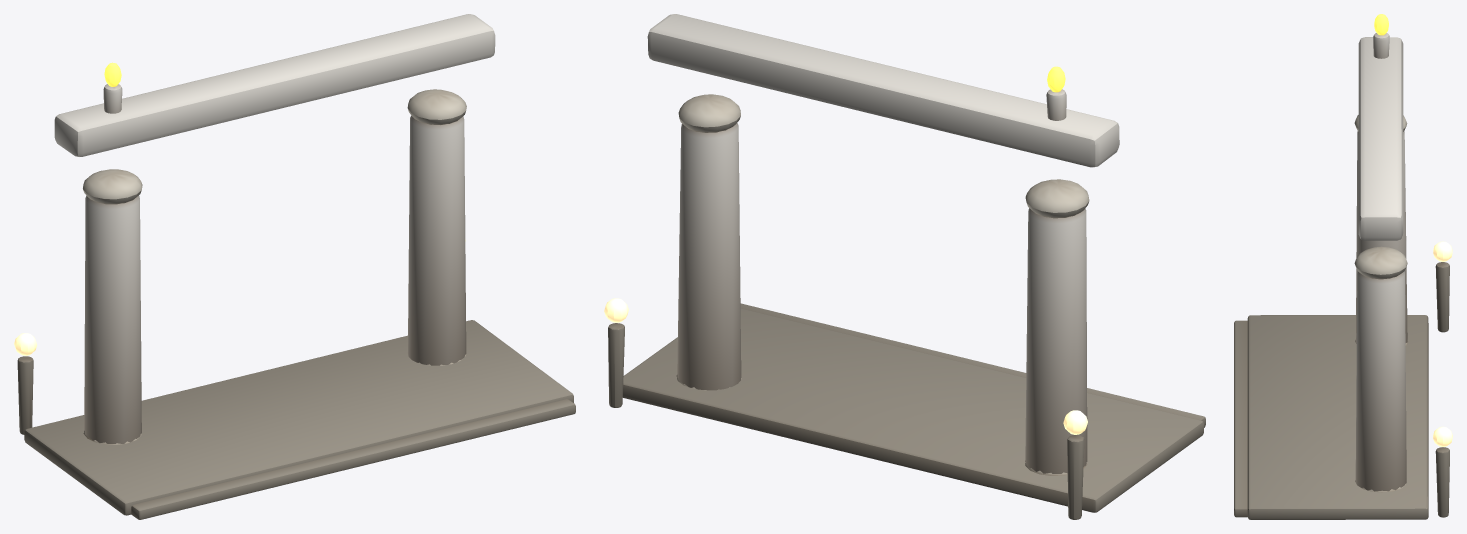
The picture shows the model from 3 angles, left to right: view 1: azimuth 30°, elevation 25°; view 2: azimuth 150°, elevation 25°; view 3: azimuth 270°, elevation 25°; orthographic projection. The views are drawn at different scales.
Parts seen in each view (by area): view 1: gate_90333f7e; view 2: gate_90333f7e; view 3: gate_90333f7e.
Boxes of the visible parts, x1,y1,x2,y2 form: gate_90333f7e: [14, 14, 575, 519]; gate_90333f7e: [604, 14, 1205, 519]; gate_90333f7e: [1234, 14, 1452, 519].
Bounding box in the file's own units: 5.36 × 4.37 × 2.54.
